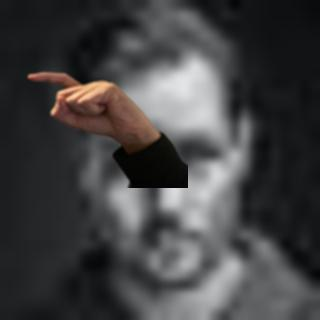WHY: (22, 64, 157, 147)
